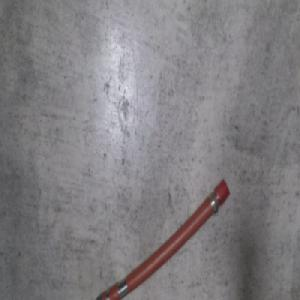Hose: (93, 174, 230, 300)
